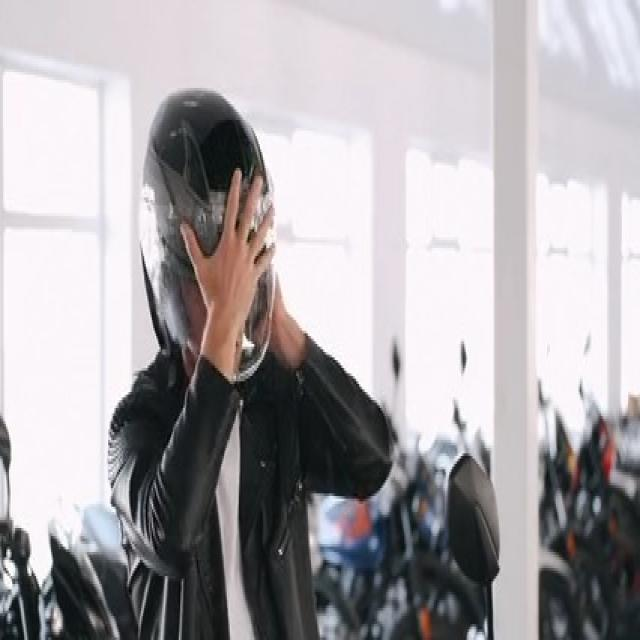Helmet_Wearer: (134, 82, 281, 394)
Jacket_Wearer: (107, 285, 389, 640)
Person: (108, 84, 396, 640)
